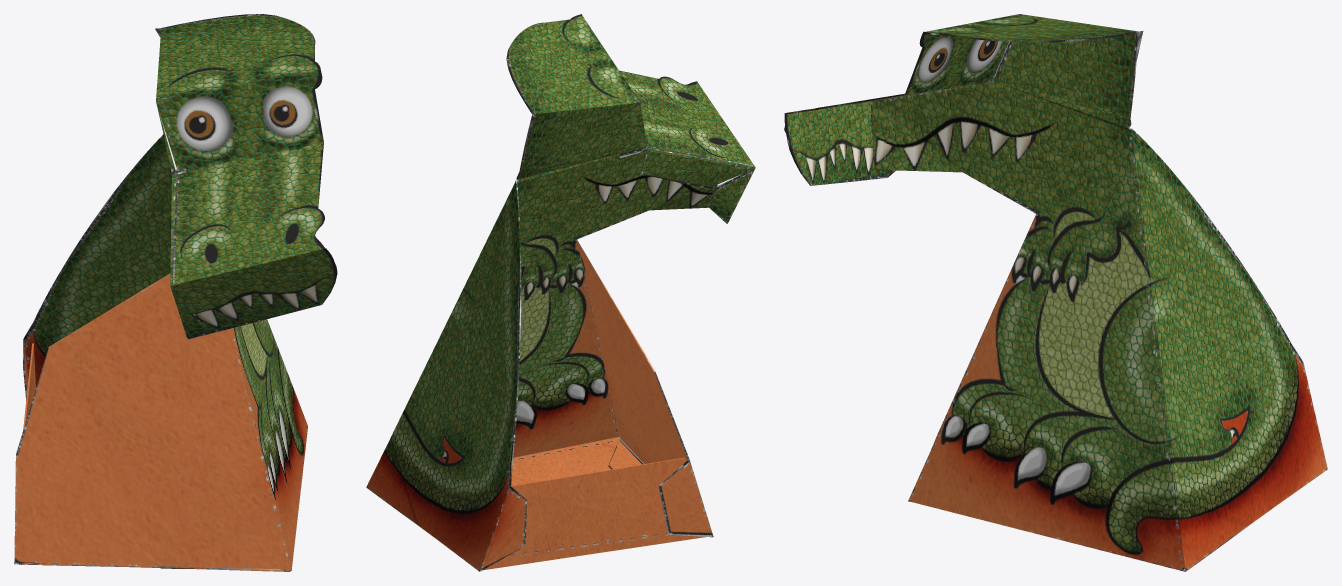
Rendered from dinosaur.fbx.
The picture shows the model from 3 angles, left to right: view 1: azimuth 30°, elevation 25°; view 2: azimuth 150°, elevation 25°; view 3: azimuth 270°, elevation 25°; orthographic projection. The views are drawn at different scales.
Parts seen in each view (by area): view 1: path233.002 (working); view 2: path233.002 (working); view 3: path233.002 (working).
Part boxes in pixels (bbox=[...]): path233.002 (working): bbox=[14, 14, 337, 571]; path233.002 (working): bbox=[366, 14, 755, 571]; path233.002 (working): bbox=[784, 14, 1327, 571].
Size of the model in its own units: 24.06 by 33.02 by 32.51.
